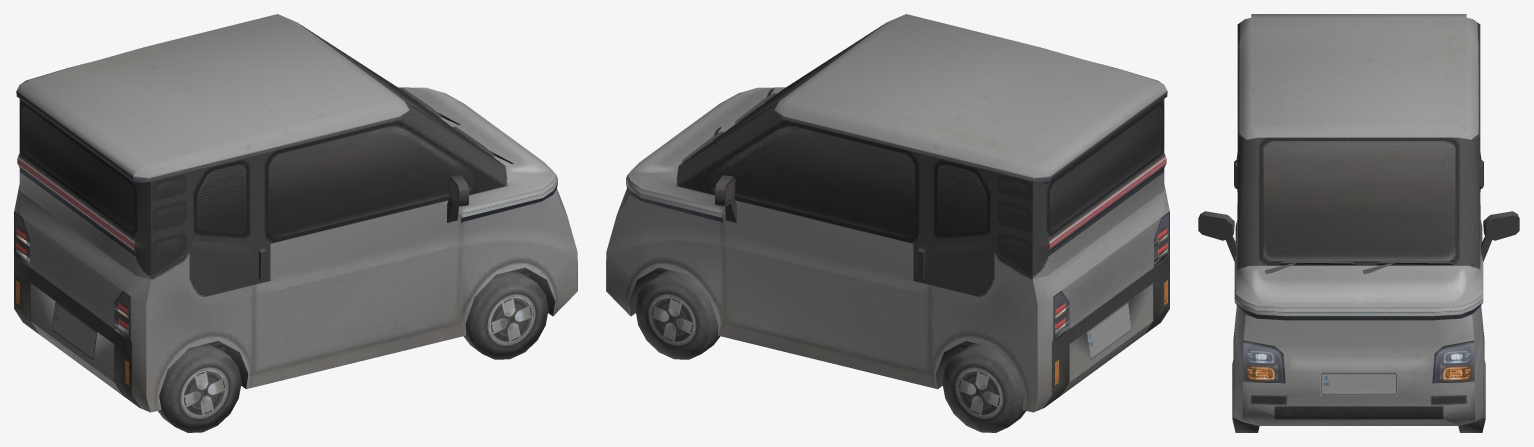
3 views of the same model, side by side, from view 1: azimuth 30°, elevation 25°; view 2: azimuth 150°, elevation 25°; view 3: azimuth 270°, elevation 25° (orthographic). The views are drawn at different scales.
Parts seen in each view (by area): view 1: traffic_ev_01, traffic_ev_01_Front_R_traffic_ev_01_component_0, traffic_ev_01_Rear_R_traffic_ev_01_component_0, traffic_ev_01_light_break; view 2: traffic_ev_01, traffic_ev_01_Front_L_traffic_ev_01_component_0, traffic_ev_01_Rear_L_traffic_ev_01_component_0, traffic_ev_01_light_break; view 3: traffic_ev_01, traffic_ev_01_light, traffic_ev_01_light_turn_L, traffic_ev_01_light_turn_R, traffic_ev_01_Front_L_traffic_ev_01_component_0, traffic_ev_01_Front_R_traffic_ev_01_component_0.
Part boxes in pixels (x1,y1,x2,y2): traffic_ev_01: (14,14,577,412); traffic_ev_01_Front_R_traffic_ev_01_component_0: (464,270,548,359); traffic_ev_01_Rear_R_traffic_ev_01_component_0: (158,343,241,432); traffic_ev_01_light_break: (14,159,133,341); traffic_ev_01: (606,14,1169,412); traffic_ev_01_Front_L_traffic_ev_01_component_0: (635,270,719,359); traffic_ev_01_Rear_L_traffic_ev_01_component_0: (942,343,1025,432); traffic_ev_01_light_break: (1050,159,1169,341); traffic_ev_01: (1198,14,1519,425); traffic_ev_01_light: (1234,299,1483,365); traffic_ev_01_light_turn_L: (1432,364,1474,383); traffic_ev_01_light_turn_R: (1243,364,1285,383); traffic_ev_01_Front_L_traffic_ev_01_component_0: (1458,360,1485,432); traffic_ev_01_Front_R_traffic_ev_01_component_0: (1232,360,1259,432).
Size of the model in its own units: 2.9 by 1.73 by 1.95.
3 materials, 3 textured.
